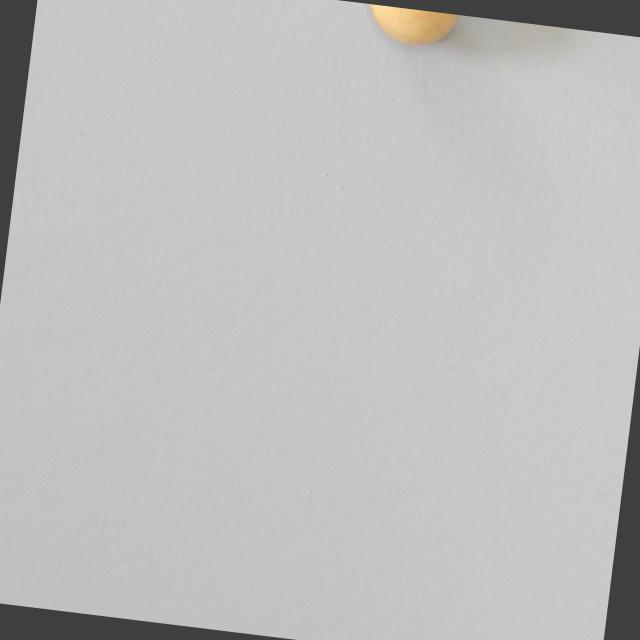cuerpos_extranos: (358, 3, 461, 54)
